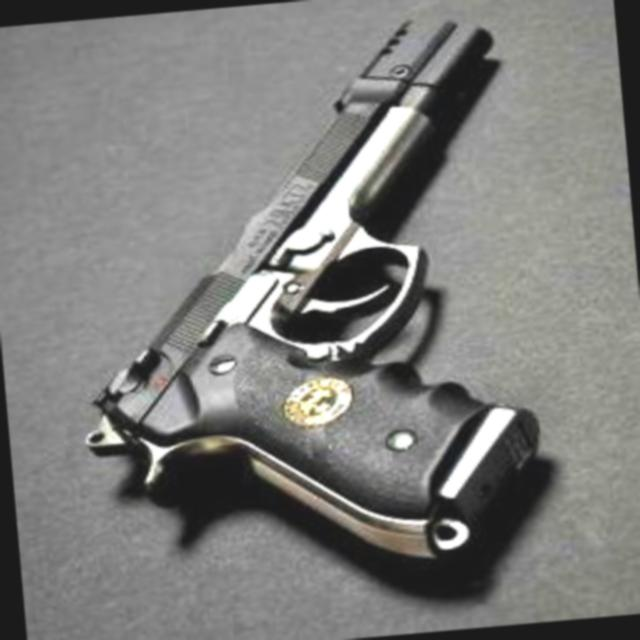semi automatic: (28, 0, 596, 640)
